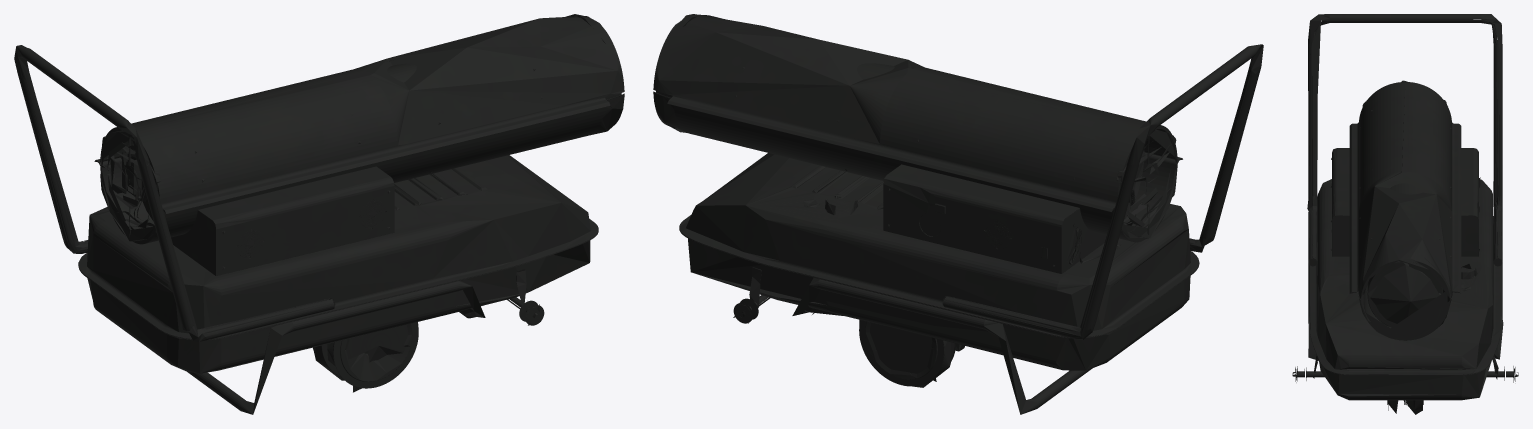
The model's file is climate_heater_dieselTorpedo_a01.glb.
3 views of the same model, side by side, from view 1: azimuth 30°, elevation 25°; view 2: azimuth 150°, elevation 25°; view 3: azimuth 270°, elevation 25° (orthographic). The views are drawn at different scales.
Parts seen in each view (by area): view 1: geometry_0; view 2: geometry_0; view 3: geometry_0.
Part boxes in pixels (x1,y1,x2,y2): geometry_0: [14, 14, 624, 414]; geometry_0: [653, 14, 1263, 414]; geometry_0: [1292, 14, 1518, 414].
Bounding box in the file's own units: 0.42 × 0.28 × 0.2002.
Materials: 1 (1 with a texture image).
